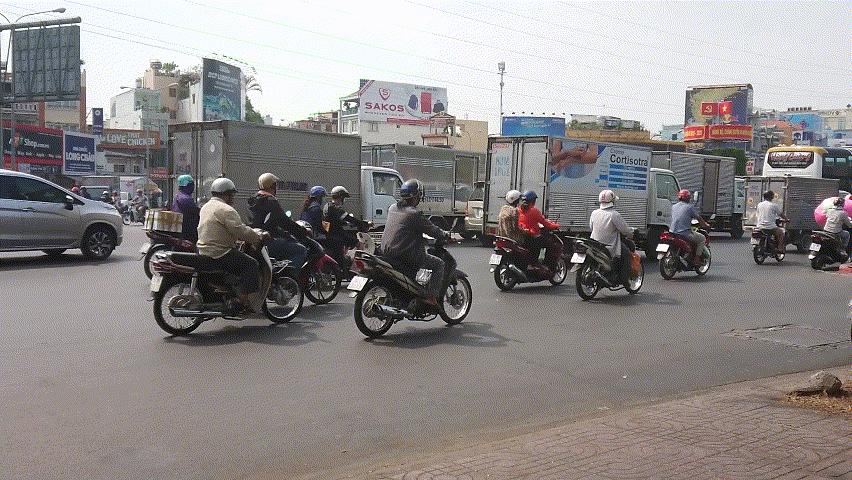driver: (146, 178, 304, 336), (346, 179, 473, 339), (246, 172, 342, 305), (566, 188, 645, 301), (489, 189, 568, 291), (656, 189, 718, 280), (808, 196, 852, 270), (750, 190, 791, 265)
helmet: (399, 179, 426, 208), (211, 178, 238, 206), (256, 173, 283, 197), (597, 188, 621, 211), (307, 184, 329, 206), (504, 188, 526, 209), (331, 185, 351, 207), (176, 174, 196, 195), (521, 190, 539, 208), (678, 189, 691, 204), (763, 190, 774, 202), (833, 197, 845, 208)
